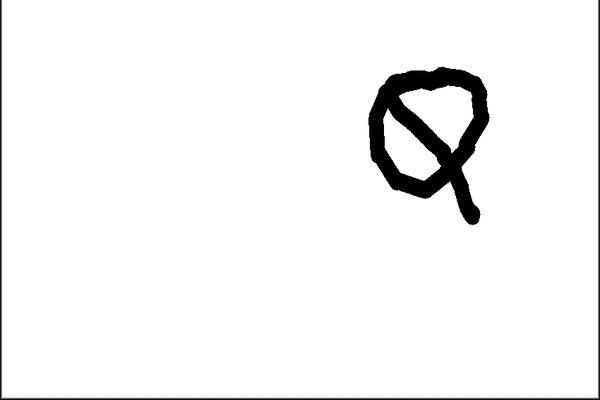Q: (352, 57, 492, 231)
